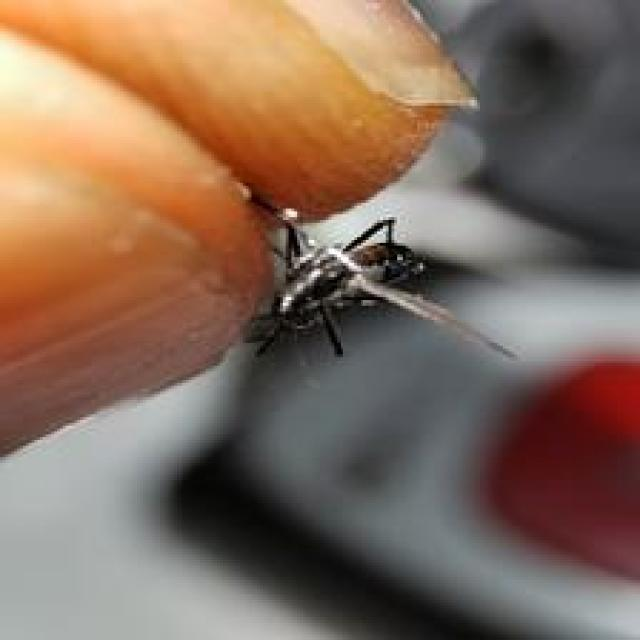Aedes albopictus: (242, 200, 518, 366)
